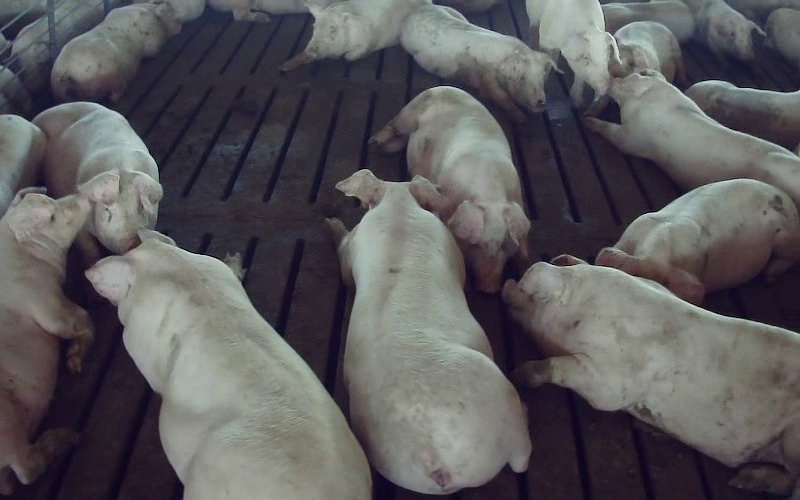pig: (87, 230, 369, 499), (503, 256, 799, 495), (327, 170, 530, 493), (587, 70, 799, 211), (0, 189, 92, 492), (596, 179, 799, 303), (33, 102, 162, 264), (400, 3, 555, 120), (51, 3, 180, 101), (526, 0, 618, 107), (685, 80, 799, 148), (684, 0, 763, 60), (609, 21, 683, 82), (602, 0, 695, 42)
